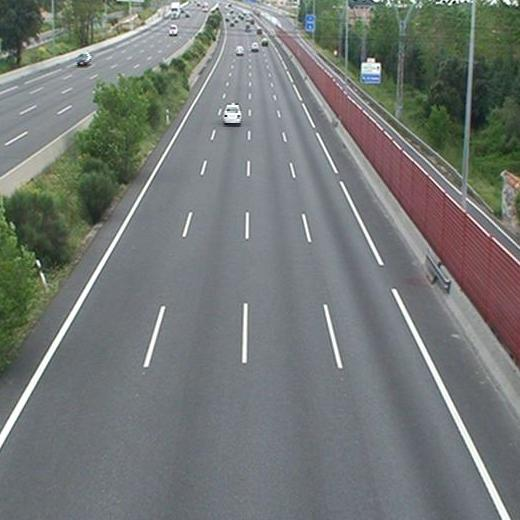car: (223, 105, 241, 123), (250, 42, 259, 50), (235, 45, 243, 53), (261, 37, 267, 45)
